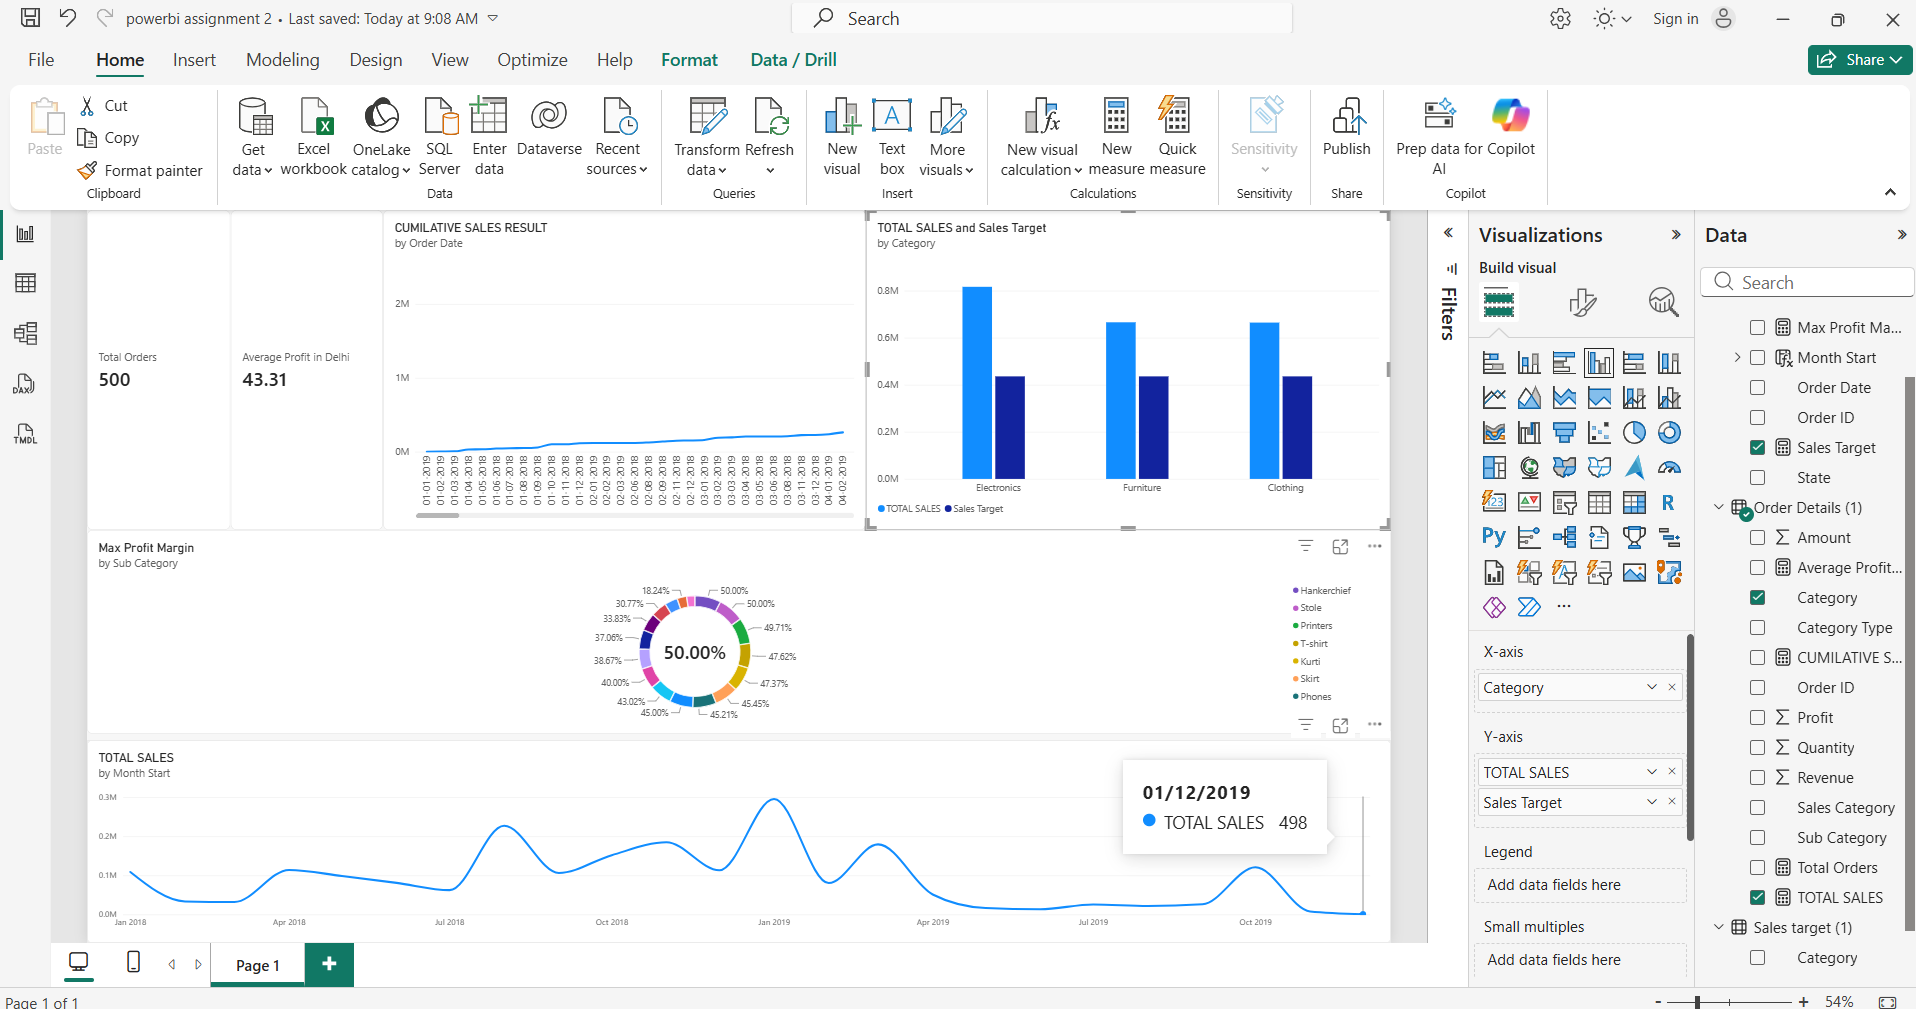

The page's visual inventory and layout, read from the dashboard file:
{"tool":"powerbi","page":{"name":"Page 1","canvas":[1920,1080],"ordinal":0},"visuals":[{"type":"cardVisual","fields":{"Data":["Order Details (1).Total Orders"]},"box":[0,0,211.7,471.2],"z":0},{"type":"cardVisual","fields":{"Data":["Order Details (1).Average Profit in Delhi"]},"box":[211.7,0,224.5,471.2],"z":1000},{"type":"lineChart","fields":{"Category":["List of Orders (1).Order Date"],"Y":["Order Details (1).CUMILATIVE SALES RESULT"]},"box":[436.2,0,710.4,471.2],"z":2000},{"type":"clusteredColumnChart","fields":{"Category":["Order Details (1).Category"],"Y":["Order Details (1).TOTAL SALES","List of Orders (1).Sales Target"]},"box":[1146.6,0,773,471.2],"z":3000},{"type":"donutChart","fields":{"Category":["Order Details (1).Sub Category"],"Y":["List of Orders (1).Max Profit Margin"]},"box":[0,471.2,1919.6,300],"z":4000},{"type":"lineChart","fields":{"Category":["List of Orders (1).Month Start"],"Y":["Order Details (1).TOTAL SALES"]},"box":[0,781,1920,299],"z":5000}]}

Visuals, with their boxes on the page's 1920x1080 design canvas (x1, y1, x2, y2). These are canvas units, not pixel positions in the 1916x1009 screenshot, which may show the page scaled, cropped or inside an application window:
cardVisual - Order Details (1).Total Orders: 0:0:212:471
cardVisual - Order Details (1).Average Profit in Delhi: 212:0:436:471
lineChart - List of Orders (1).Order Date x Order Details (1).CUMILATIVE SALES RESULT: 436:0:1147:471
clusteredColumnChart - Order Details (1).Category x Order Details (1).TOTAL SALES: 1147:0:1920:471
donutChart - Order Details (1).Sub Category x List of Orders (1).Max Profit Margin: 0:471:1920:771
lineChart - List of Orders (1).Month Start x Order Details (1).TOTAL SALES: 0:781:1920:1080
